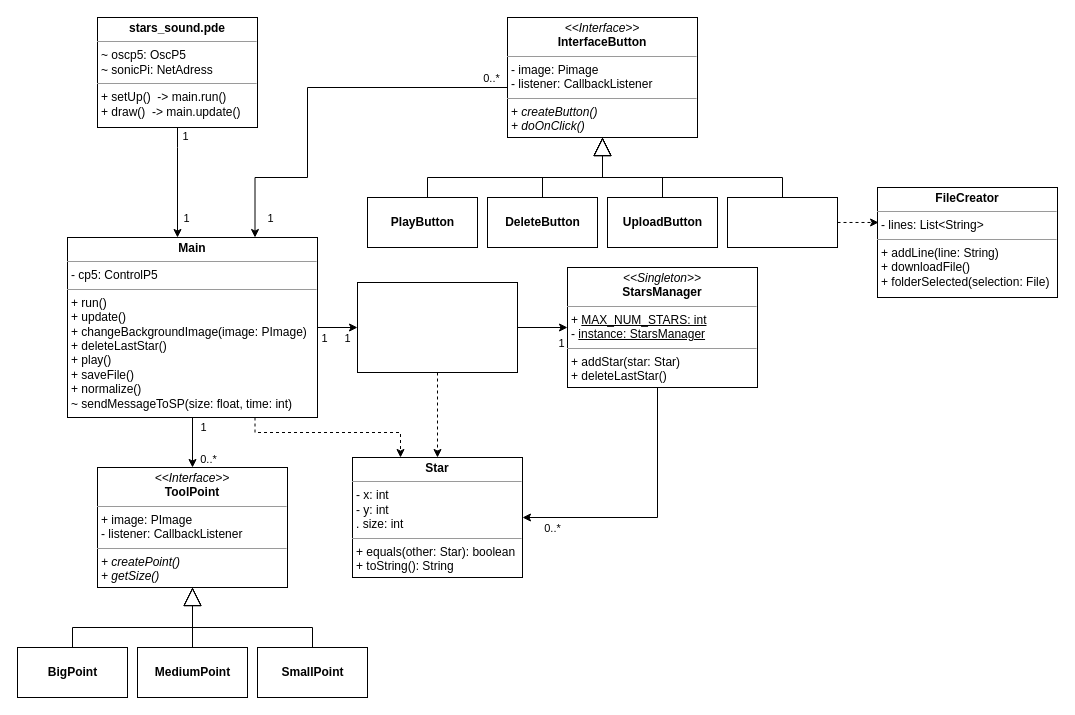
This 1075x715 diagram has some shape labels left out. The shapes that lost their labels are listed below. From the top down, each one's centre as x and y in pixels, then its label:
At pixel 782 222: "DownloadButton".
At pixel 437 327: "CanvasStars - bGImage: Pimage + draw(main: Main) + deleteLastStar()".
